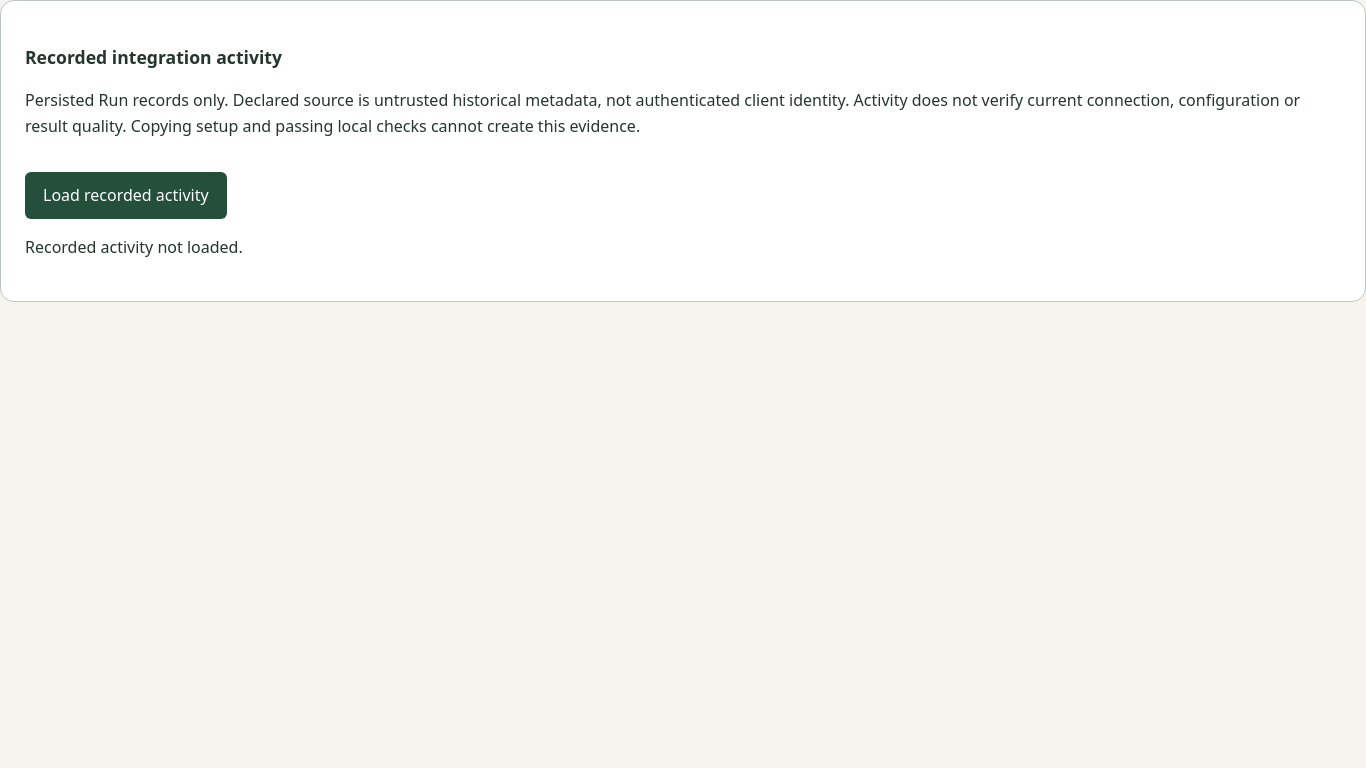
malformed records or dishonest evidence rejected atomically; unknown source stays unattributed
What coordinates should you click on to do the following:
click the button "Load recorded activity"
I would click on:
 (126, 195)
Its box is [25,172,227,219].
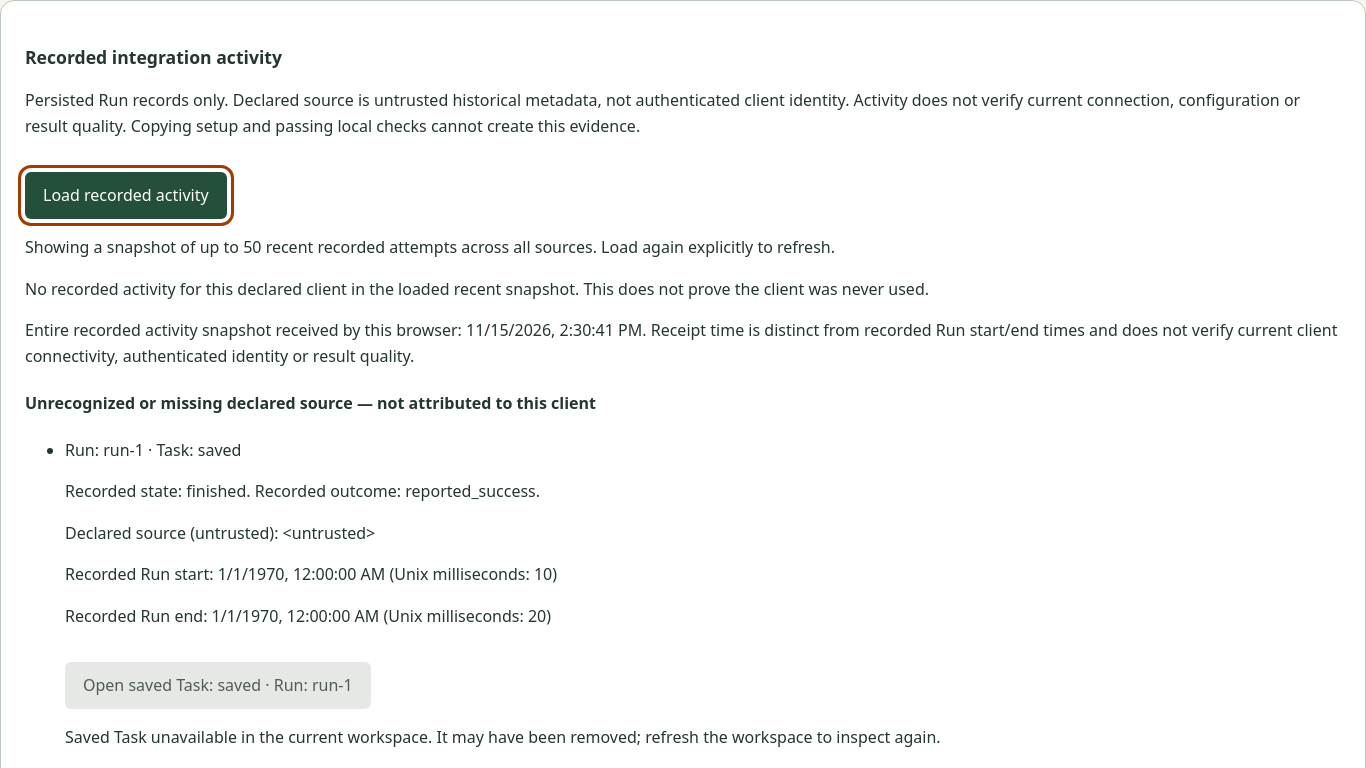
Result: the text "Declared source (untrusted): <untrusted>" is shown at [65,522,375,544]
Result: the list named "Unclassified recorded attempts" is shown at [65,439,941,748]
